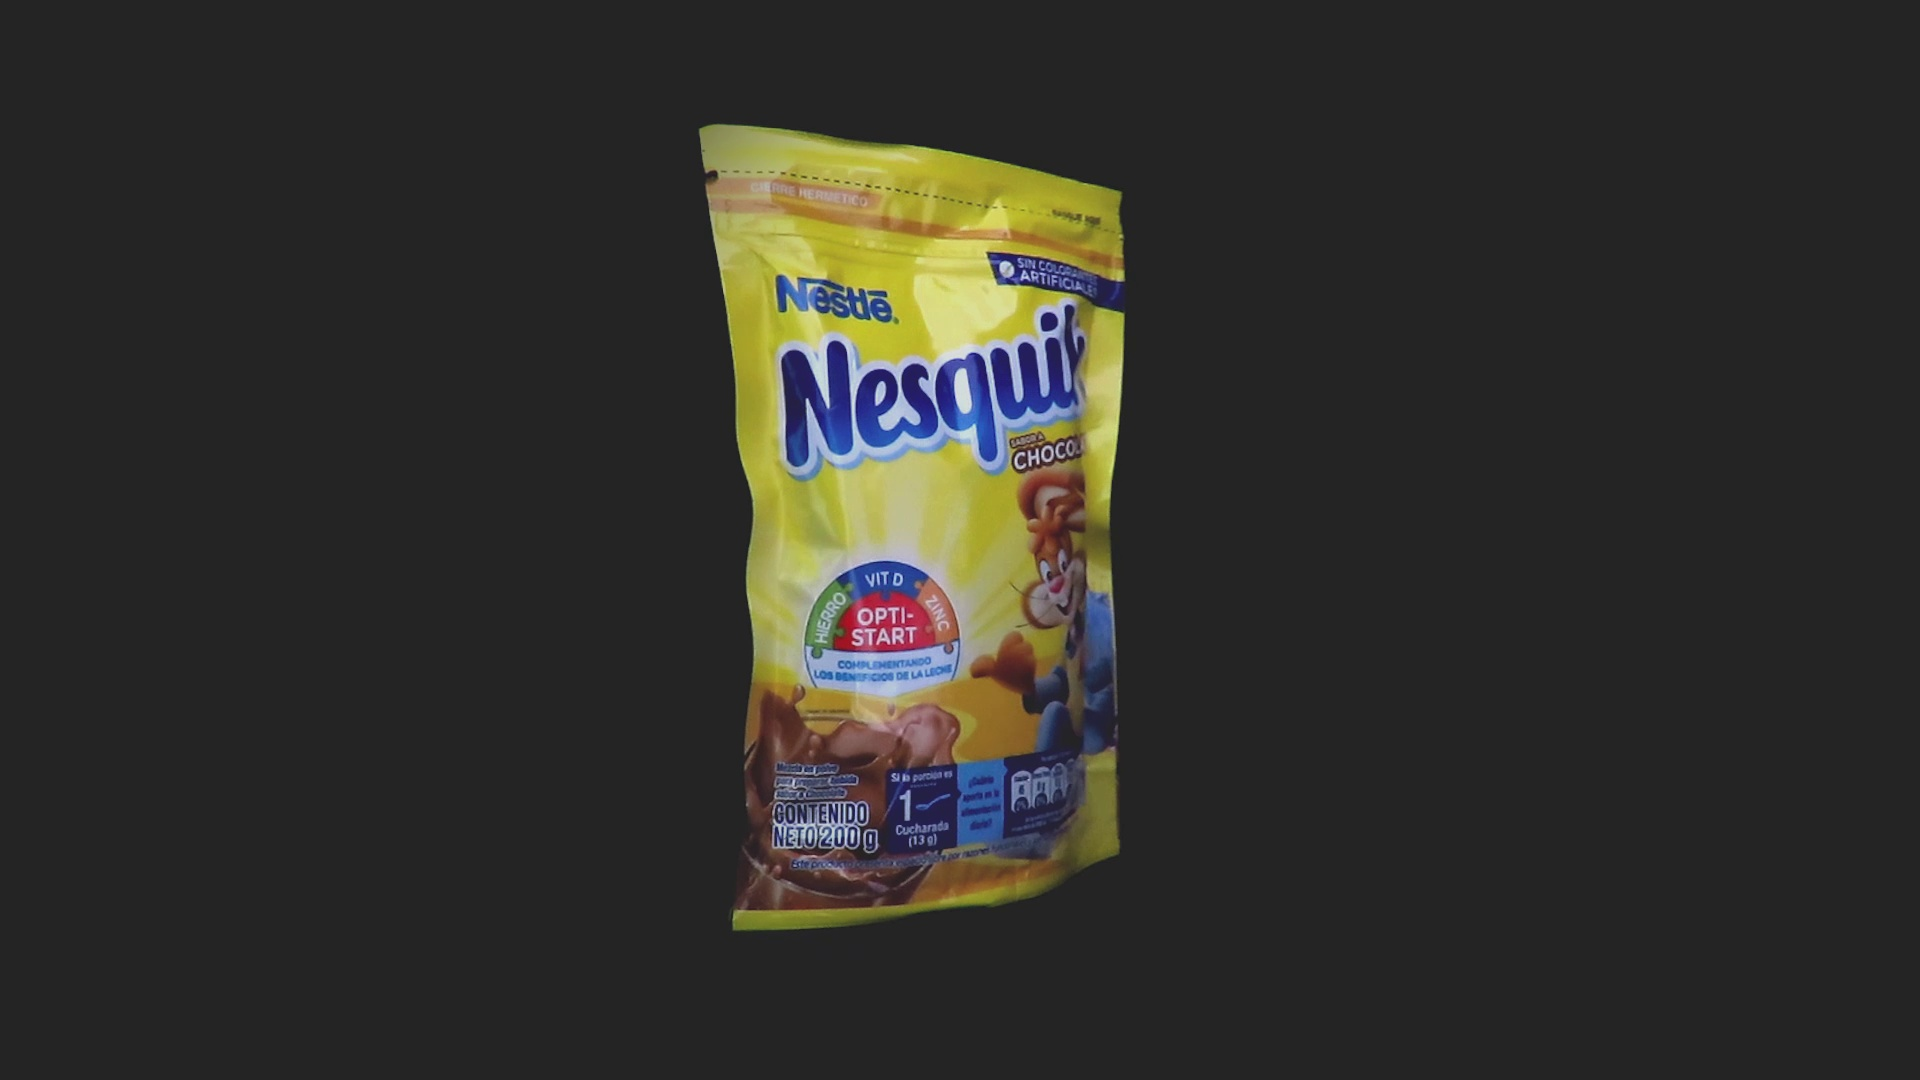COL0170303DYP20000: (694, 119, 1131, 938)
